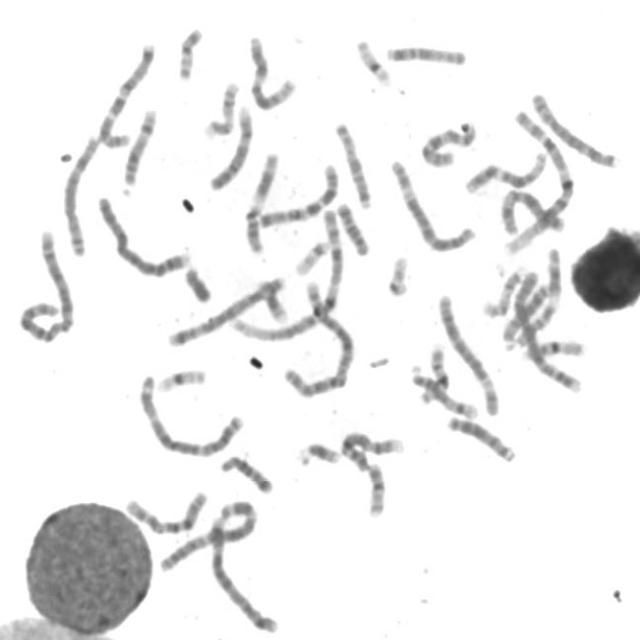A1: (229, 201, 348, 344), (498, 99, 578, 253)
A2: (278, 278, 358, 400), (15, 225, 78, 345)
A3: (134, 368, 246, 459), (156, 495, 260, 574)
B4: (513, 269, 586, 397), (92, 189, 194, 279)
B5: (205, 497, 282, 636), (164, 271, 289, 349)
C10: (120, 484, 211, 538), (417, 116, 480, 169)
C11: (504, 247, 568, 346), (241, 147, 282, 254)
C12: (243, 29, 299, 111), (461, 146, 551, 194)
C6: (385, 154, 479, 253), (432, 288, 503, 418)
C7: (94, 36, 158, 150), (254, 158, 341, 229)
C8: (527, 86, 622, 170), (59, 128, 103, 258)
C9: (206, 104, 260, 192), (340, 428, 413, 472)
D13: (442, 410, 519, 465), (498, 277, 552, 353)
D14: (406, 361, 481, 420), (118, 102, 160, 190)
D15: (332, 116, 376, 210), (381, 39, 470, 67)
E16: (413, 340, 451, 405), (519, 332, 589, 362)
E17: (199, 75, 242, 140), (480, 261, 527, 319)
E18: (216, 448, 276, 496), (332, 197, 373, 257)
F19: (352, 32, 394, 87), (153, 363, 210, 394)
F20: (173, 21, 205, 81), (363, 457, 388, 519)
G21: (256, 274, 291, 326), (293, 435, 344, 469)
G22: (290, 232, 333, 277), (382, 249, 413, 298)
X: (497, 183, 569, 236)
Y: (180, 260, 215, 306)
